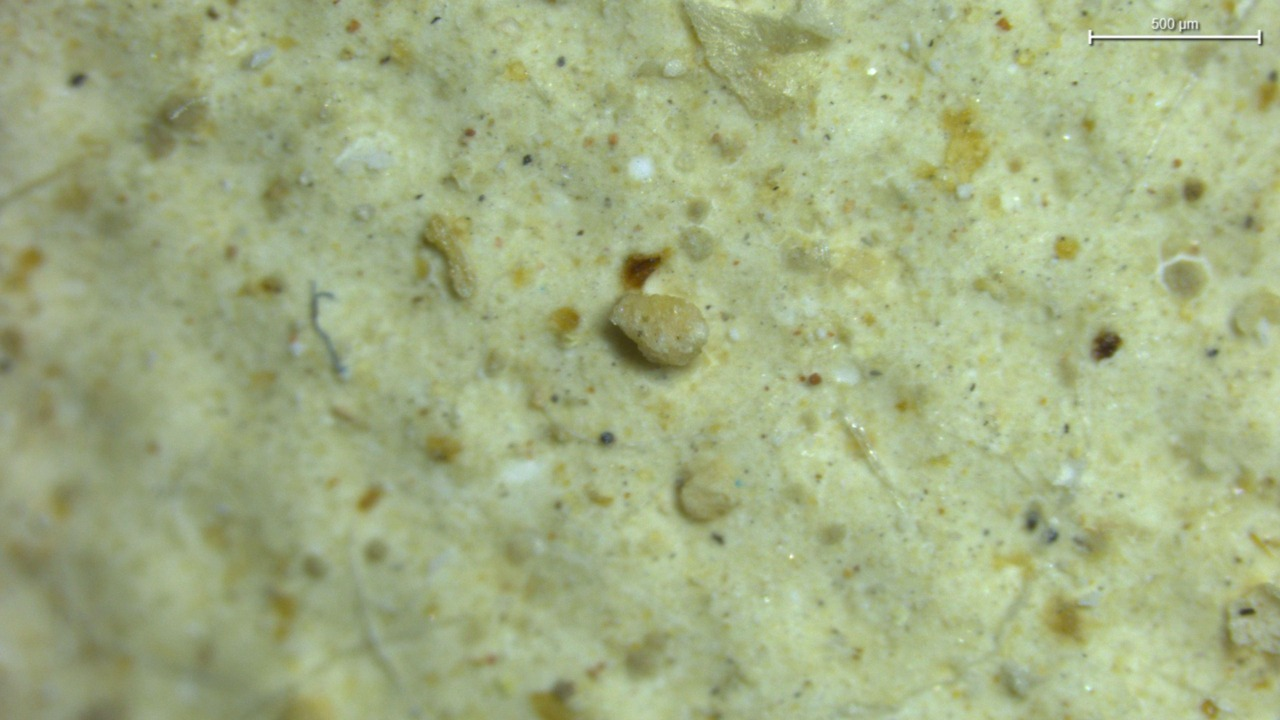microplastic_fragment: (682, 0, 832, 119), (610, 291, 707, 366), (423, 214, 475, 298)
